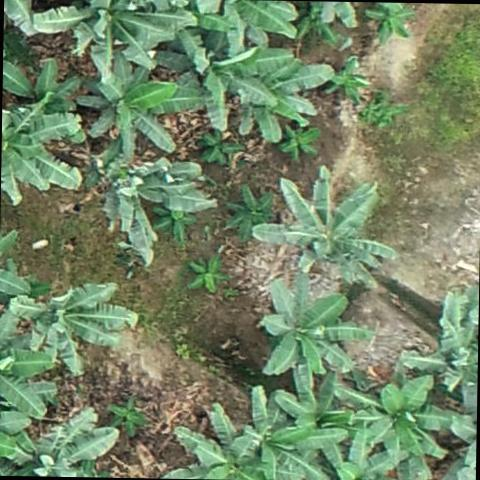Banana-plant: (254, 172, 400, 278), (7, 276, 142, 372), (172, 23, 280, 134), (27, 0, 183, 70), (262, 280, 368, 376), (75, 58, 175, 158), (359, 376, 452, 468), (0, 96, 80, 198), (159, 413, 283, 478), (0, 408, 114, 477), (280, 371, 364, 454), (0, 316, 50, 422), (224, 190, 274, 234), (274, 123, 323, 162), (192, 128, 241, 166), (190, 256, 232, 298), (368, 2, 418, 37), (156, 201, 197, 243), (320, 74, 362, 104), (298, 1, 334, 32)
